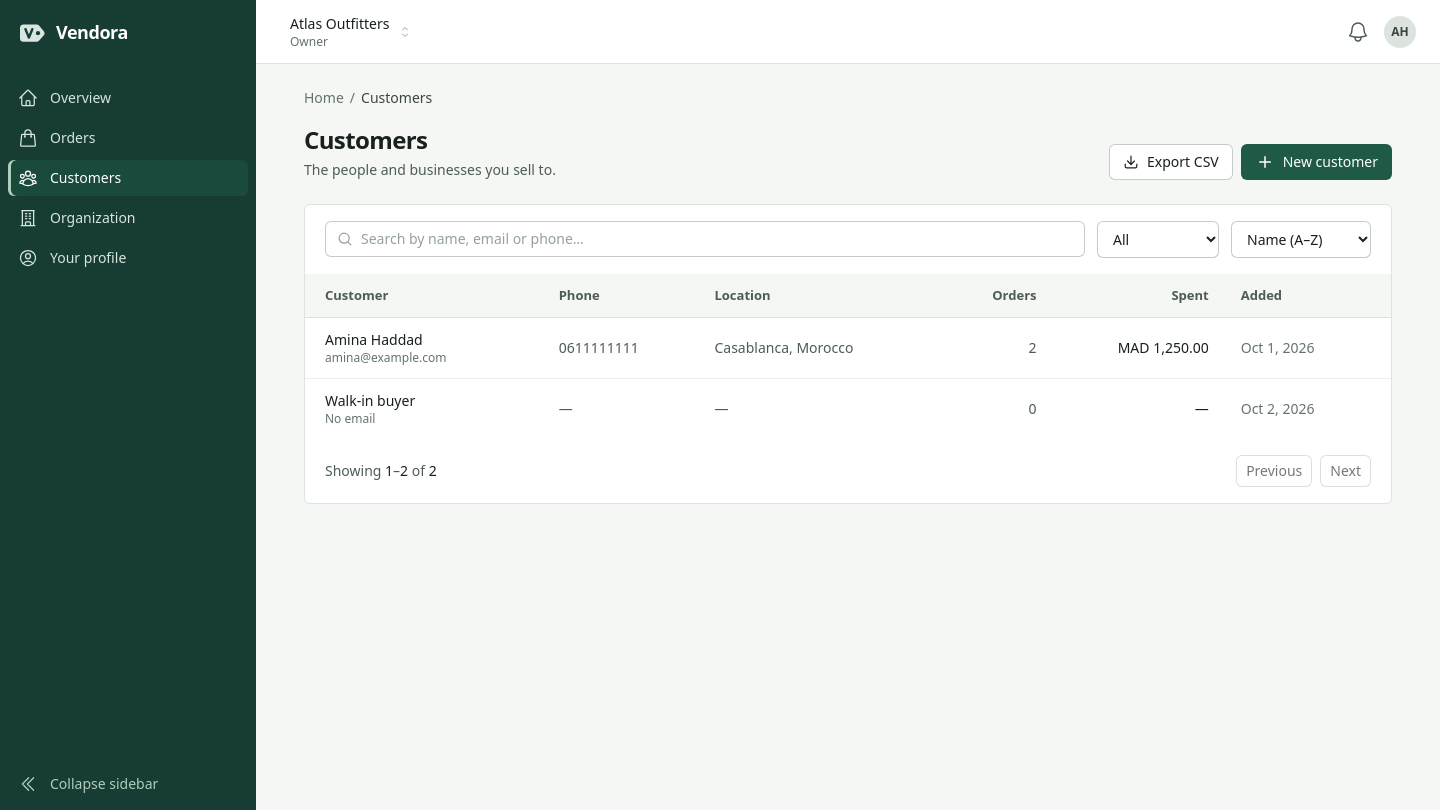
Test: customers list › export reports a refusal (rate limit) instead of failing silently
Click the button "Export CSV" at (1171, 162), box [1109,144,1233,180]
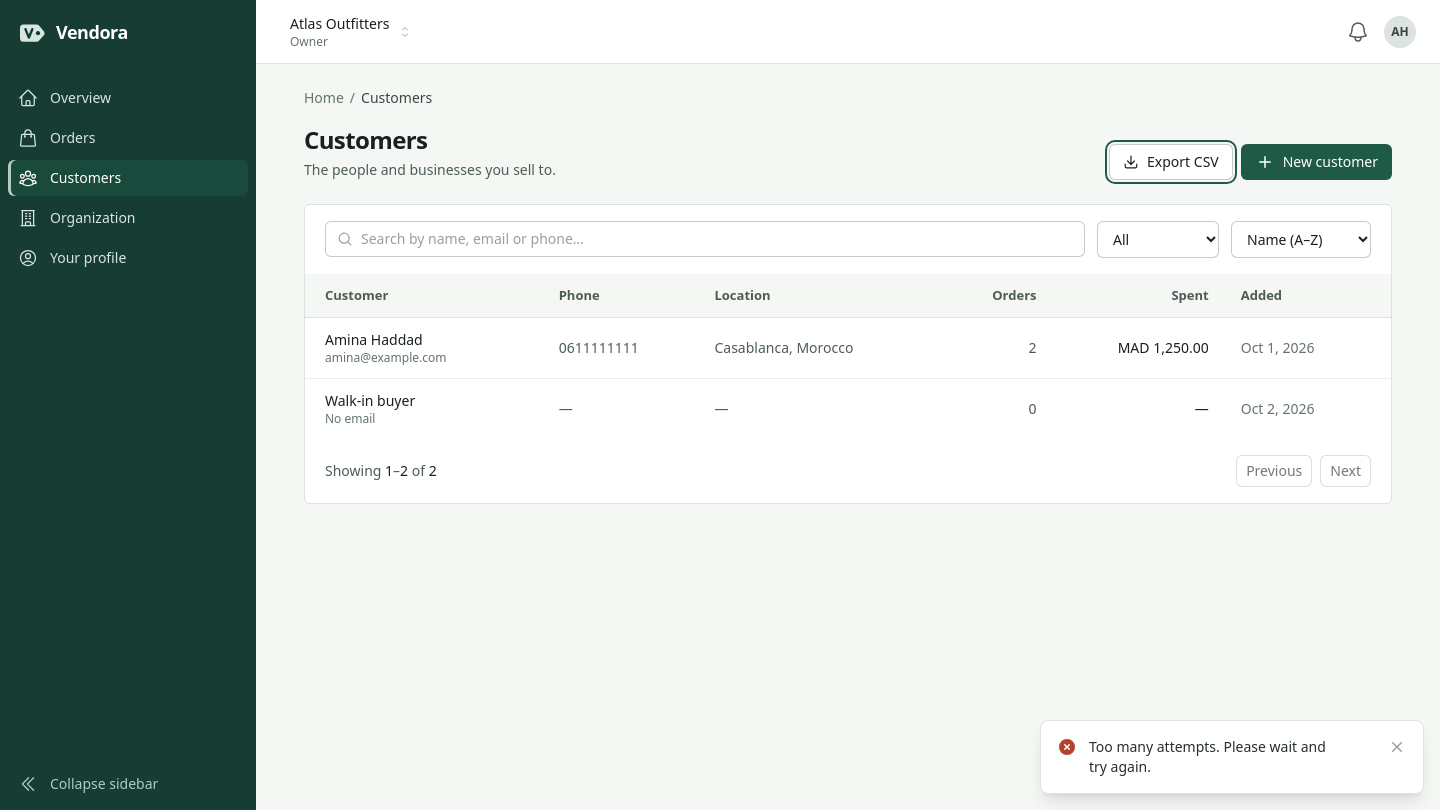
Now the text "Too many attempts. Please wait and try again." is shown, box [1089,737,1326,776]
